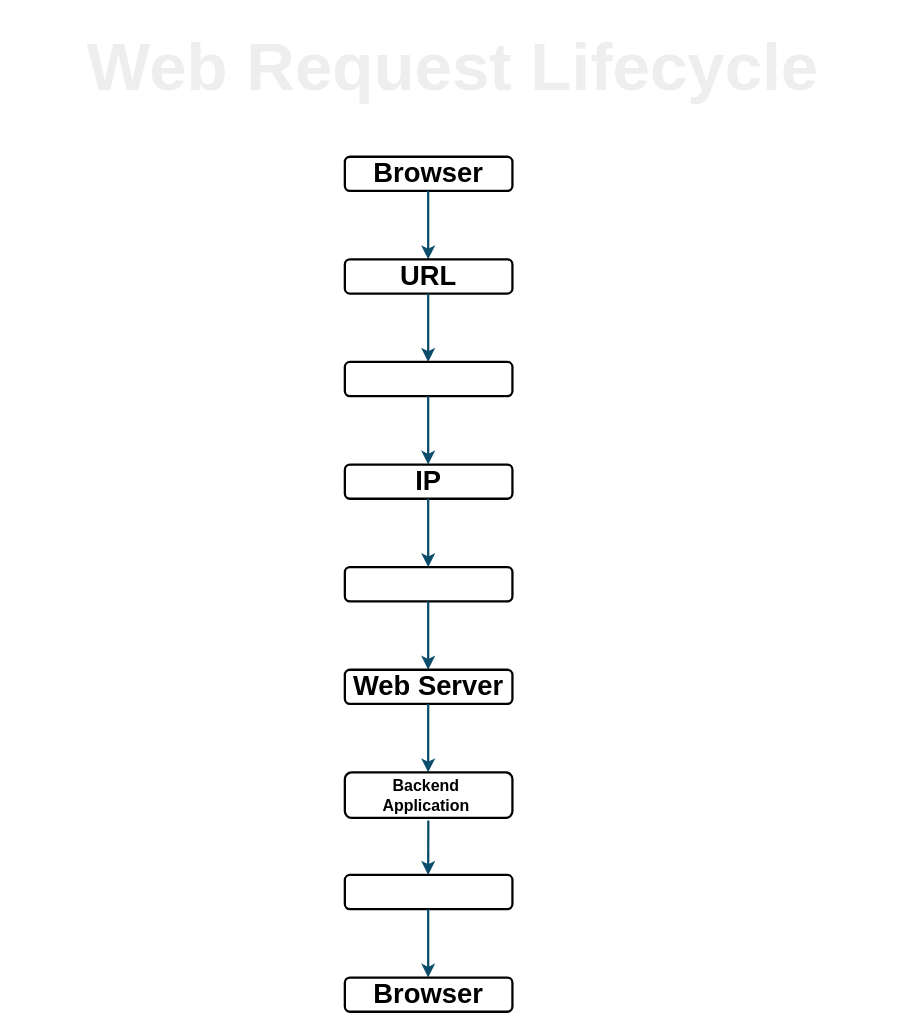
This 905x1032 diagram has some shape labels left out. Each missing label, with the centre of its shape:
DNS: [428,378]
HTTP Request: [428,583]
Response: [428,891]
